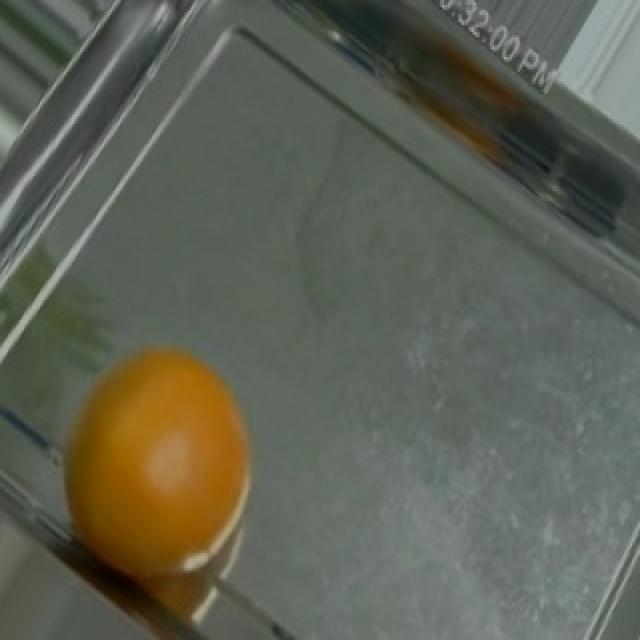Fruit: (30, 332, 276, 635)
